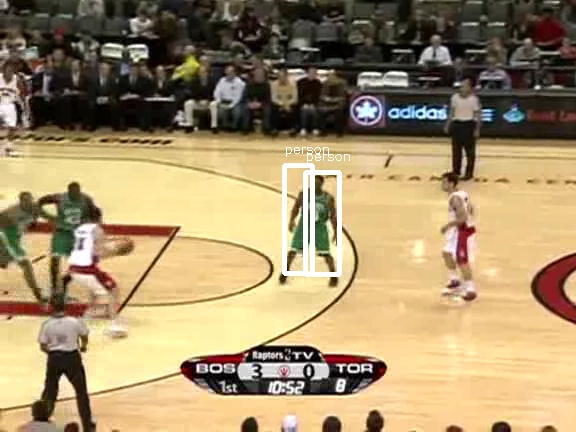person: (297, 181, 331, 262), (296, 181, 330, 262), (298, 181, 332, 262), (297, 180, 331, 261), (297, 182, 331, 263)
target_negative: (246, 2, 335, 425), (5, 251, 258, 371), (372, 17, 455, 382), (104, 45, 202, 264), (512, 184, 533, 374), (303, 291, 498, 310)
